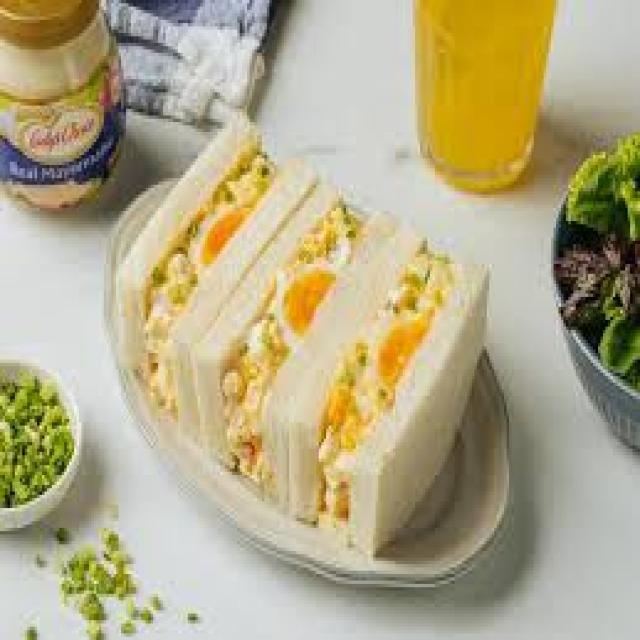Sandwich: (140, 127, 482, 554)
